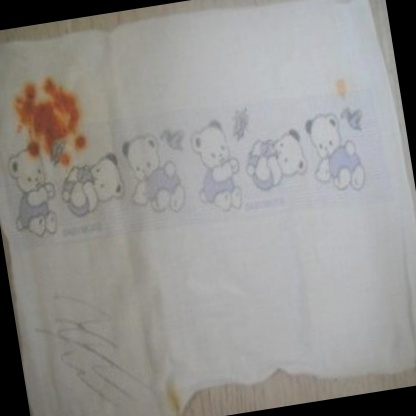kimchi: (6, 75, 91, 169), (28, 104, 69, 142), (331, 72, 355, 103), (41, 78, 63, 100), (24, 135, 44, 159), (16, 82, 38, 102), (59, 150, 75, 167), (76, 134, 90, 148)
